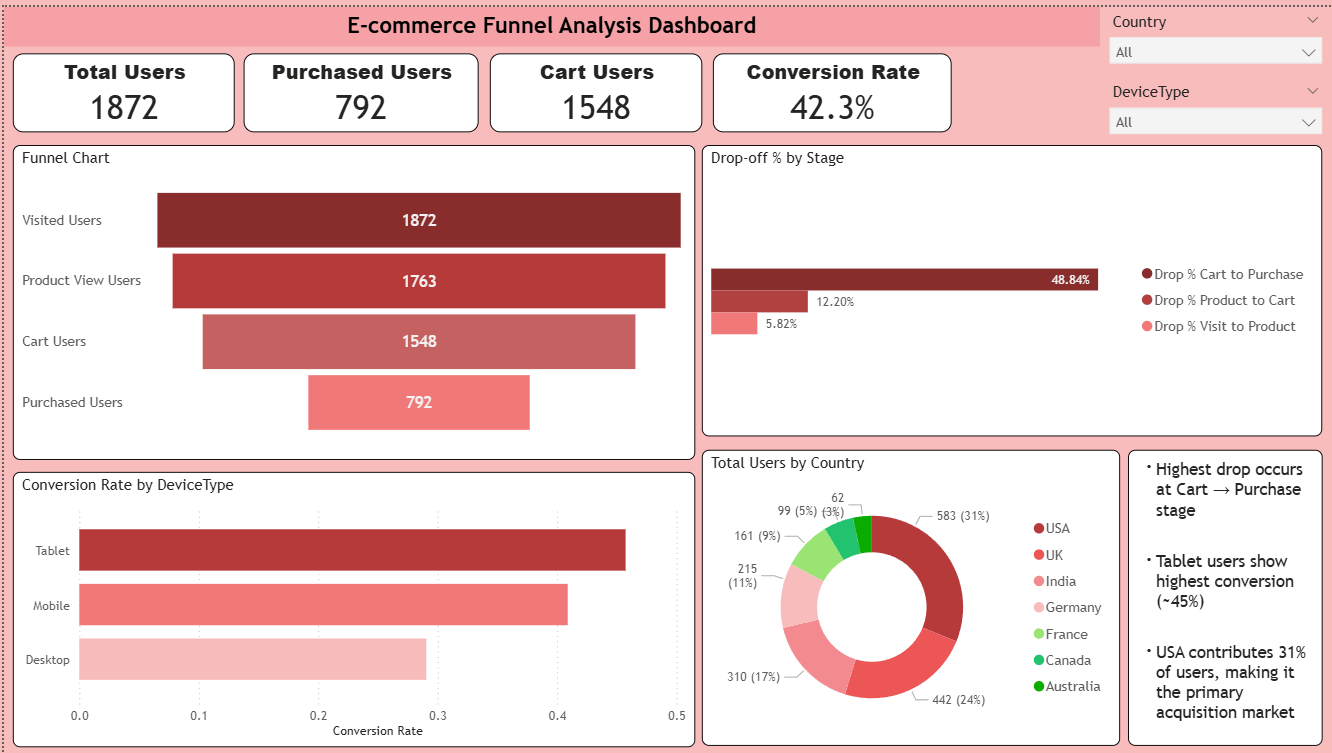

The page's visual inventory and layout, read from the dashboard file:
{"tool":"powerbi","page":{"name":"Page 1","canvas":[1280,720],"ordinal":0},"visuals":[{"type":"card","title":"Total Users","fields":{"Values":["final_data.Total Users"]},"box":[8.2,45.1,214,75.8],"z":0},{"type":"card","title":"Purchased Users","fields":{"Values":["final_data.Total Buyers"]},"box":[230.4,45.1,226.3,75.8],"z":1000},{"type":"card","title":"Cart Users","fields":{"Values":["final_data.Cart Users"]},"box":[468,45.1,204.8,75.8],"z":2000},{"type":"card","title":"Conversion Rate","fields":{"Values":["final_data.Conversion Rate %","select"]},"box":[683,45.1,230.4,75.8],"z":3000},{"type":"funnel","title":"Funnel Chart","fields":{"Y":["final_data.Visited Users","final_data.Product View Users","final_data.Cart Users","final_data.Purchased Users"]},"box":[8.2,133.1,657.4,303.1],"z":4000},{"type":"clusteredBarChart","title":"Drop-off % by Stage","fields":{"Y":["final_data.Drop % Cart to Purchase","final_data.Drop % Product to Cart","final_data.Drop % Visit to Product"]},"box":[672.8,133.1,598,280.6],"z":5000},{"type":"clusteredBarChart","fields":{"Category":["final_data.DeviceType"],"Y":["final_data.Conversion Rate"]},"box":[8.2,447.5,657.4,265.2],"z":6000},{"type":"donutChart","fields":{"Category":["final_data.Country"],"Y":["final_data.Total Users"]},"box":[672.8,427,403.5,285.7],"z":7000},{"type":"slicer","title":"Country","fields":{"Values":["final_data.Country"]},"box":[1055.7,0,224.3,60.4],"z":8000},{"type":"slicer","fields":{"Values":["final_data.DeviceType"]},"box":[1055.7,68.6,224.3,64.5],"z":9000},{"type":"textbox","box":[0,0,1055.7,37.9],"z":9001},{"type":"textbox","box":[1083.4,427,187.4,285.7],"z":9002}]}

Visuals, with their boxes in screenshot pixels (x1, y1, x2, y2), scaled from the page's 1280x720 canvas onto the 1332x753 screenshot:
"Total Users" card: {"left": 9, "top": 47, "right": 231, "bottom": 126}
"Purchased Users" card: {"left": 240, "top": 47, "right": 475, "bottom": 126}
"Cart Users" card: {"left": 487, "top": 47, "right": 700, "bottom": 126}
"Conversion Rate" card: {"left": 711, "top": 47, "right": 951, "bottom": 126}
"Funnel Chart" funnel: {"left": 9, "top": 139, "right": 693, "bottom": 456}
"Drop-off % by Stage" clusteredBarChart: {"left": 700, "top": 139, "right": 1322, "bottom": 433}
clusteredBarChart - final_data.DeviceType x final_data.Conversion Rate: {"left": 9, "top": 468, "right": 693, "bottom": 745}
donutChart - final_data.Country x final_data.Total Users: {"left": 700, "top": 447, "right": 1120, "bottom": 745}
"Country" slicer: {"left": 1099, "top": 0, "right": 1331, "bottom": 63}
slicer - final_data.DeviceType: {"left": 1099, "top": 72, "right": 1331, "bottom": 139}
textbox: {"left": 0, "top": 0, "right": 1099, "bottom": 40}
textbox: {"left": 1127, "top": 447, "right": 1322, "bottom": 745}
